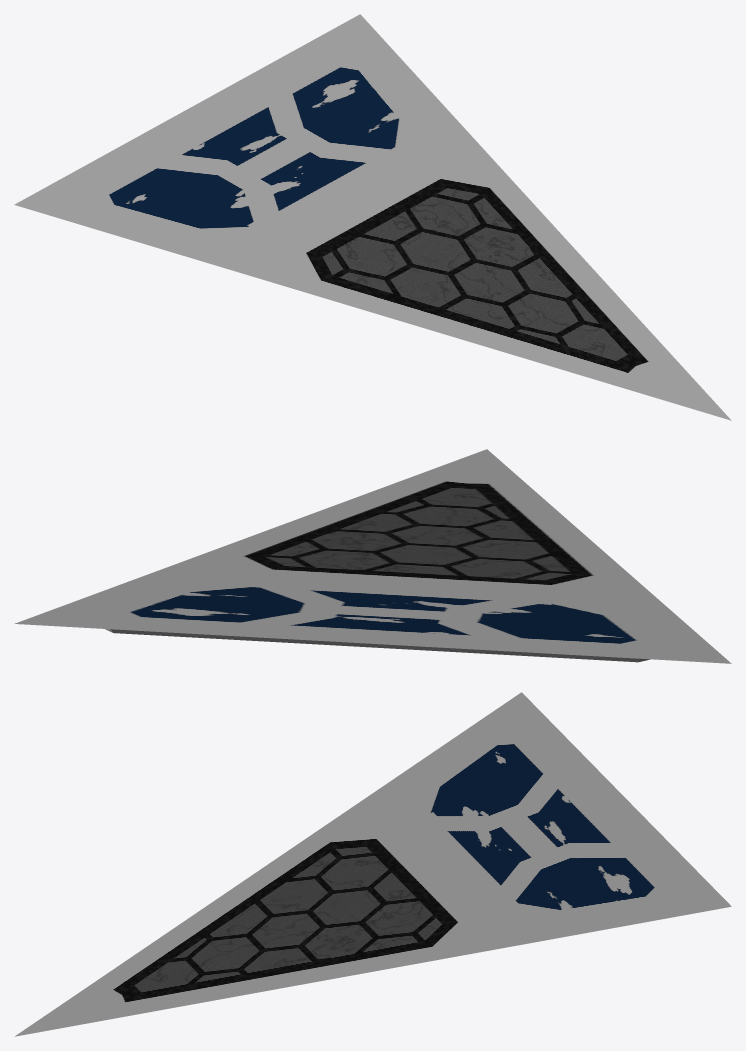
The model's file is Arena_RampC.fbx.
3 renders of one model, top to bottom at view 1: azimuth 30°, elevation 25°; view 2: azimuth 150°, elevation 25°; view 3: azimuth 270°, elevation 25°, orthographic. The views are drawn at different scales.
Visible parts, largest first — view 1: RampC_Low, RampC_Med; view 2: RampC_Low, RampC_Med; view 3: RampC_Low, RampC_Med.
Part boxes in pixels (left/top/right/bottom): RampC_Low: left=14, top=14, right=708, bottom=409; RampC_Med: left=91, top=57, right=731, bottom=420; RampC_Low: left=14, top=449, right=731, bottom=663; RampC_Med: left=105, top=449, right=659, bottom=662; RampC_Low: left=15, top=692, right=731, bottom=1036; RampC_Med: left=143, top=735, right=671, bottom=987.
Size of the model in its own units: 17.68 by 5 by 25.
